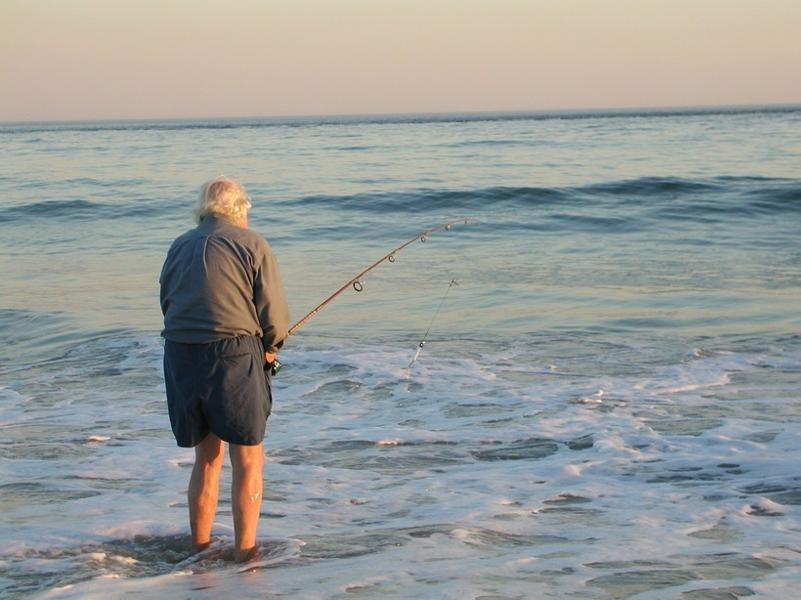person: (160, 177, 291, 561)
